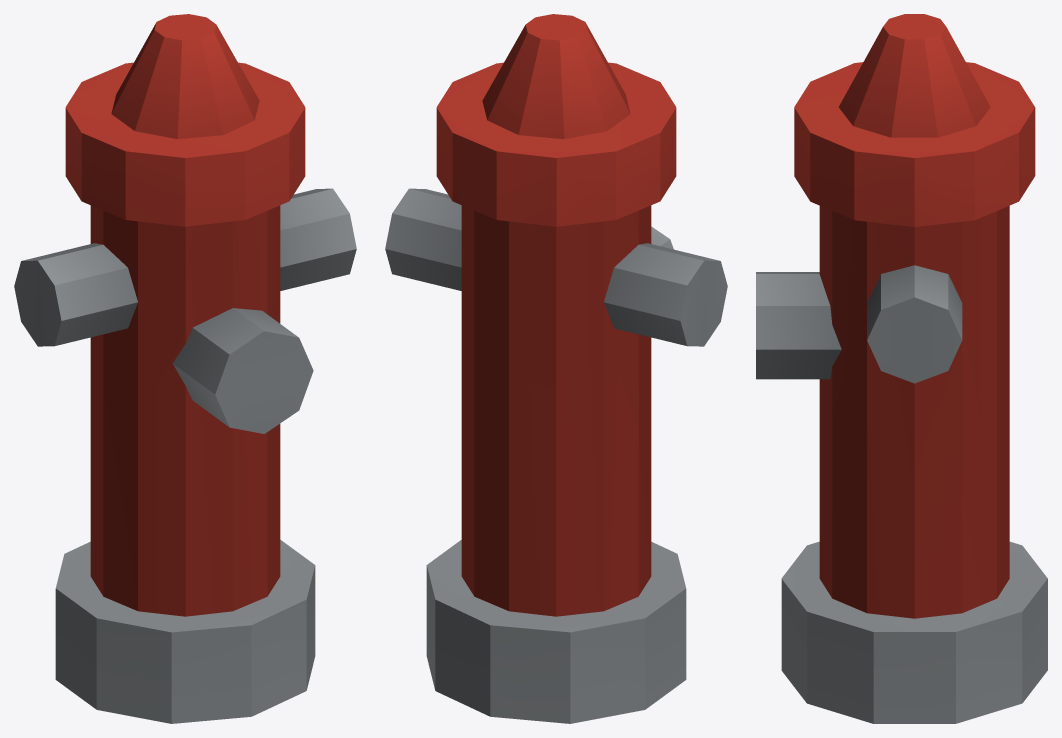
File: hidrante-JyJfVW4g.glb
3 renders of one model, left to right at view 1: azimuth 30°, elevation 25°; view 2: azimuth 150°, elevation 25°; view 3: azimuth 270°, elevation 25°, orthographic.
Visible parts, largest first — view 1: cilindro.001, cilindro, cilindro.002, cilindro.003, rama.002, rama.001, rama; view 2: cilindro.001, cilindro, cilindro.002, cilindro.003, rama.001, rama; view 3: cilindro.001, cilindro, cilindro.002, cilindro.003, rama, rama.002.
Boxes of the visible parts, x1,y1,x2,y2 form: cilindro.001: [90, 205, 280, 616]; cilindro: [55, 540, 315, 723]; cilindro.002: [65, 62, 305, 226]; cilindro.003: [111, 14, 259, 139]; rama.002: [172, 308, 313, 433]; rama.001: [14, 243, 137, 346]; rama: [280, 188, 356, 290]; cilindro.001: [461, 205, 651, 616]; cilindro: [426, 540, 686, 723]; cilindro.002: [436, 62, 676, 226]; cilindro.003: [482, 14, 630, 139]; rama.001: [604, 243, 727, 346]; rama: [385, 188, 461, 290]; cilindro.001: [819, 205, 1009, 618]; cilindro: [781, 541, 1047, 723]; cilindro.002: [794, 62, 1035, 226]; cilindro.003: [838, 14, 990, 137]; rama: [867, 265, 962, 383]; rama.002: [756, 272, 841, 379].
Size of the model in its own units: 0.54 by 1.12 by 0.46.
